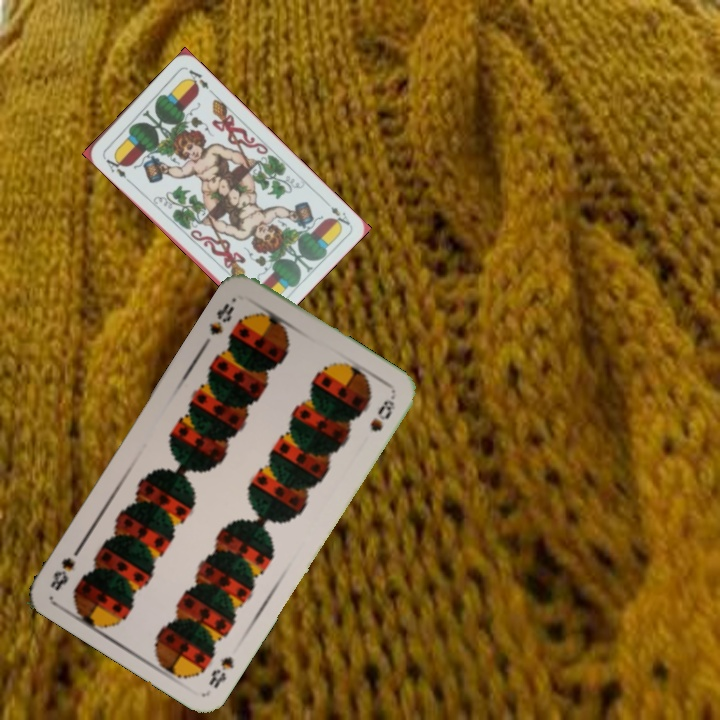EA: (320, 197, 353, 231), (99, 152, 132, 184)
S8: (204, 652, 237, 691), (205, 298, 237, 338)
